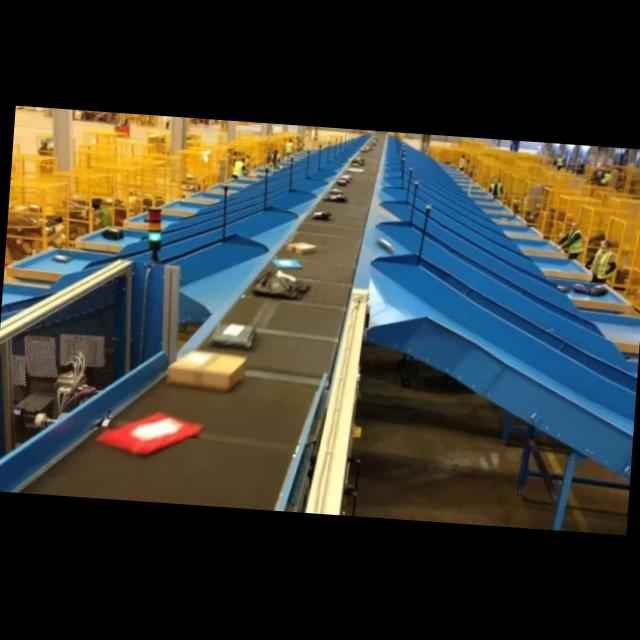box: (170, 350, 244, 395), (287, 240, 315, 256)
mailer: (101, 410, 202, 461), (252, 268, 313, 303), (210, 321, 252, 352), (272, 256, 300, 269), (326, 193, 348, 203), (313, 211, 330, 221), (330, 187, 340, 194), (336, 177, 344, 185)
